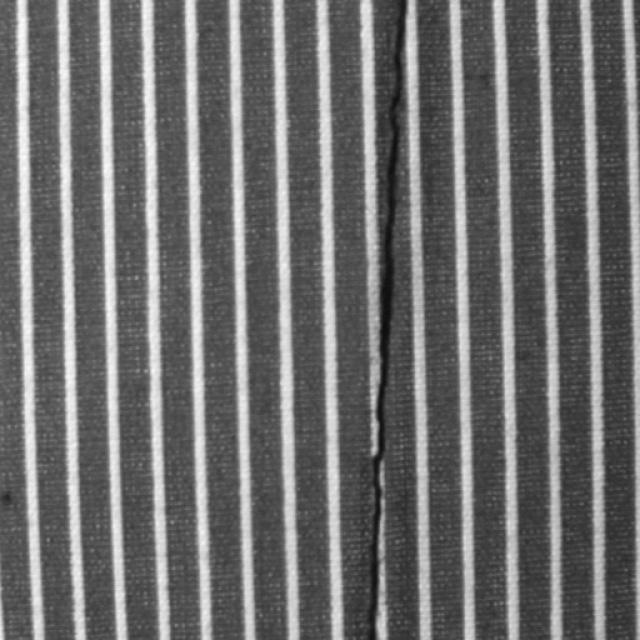Foreign-Body-Defect: (362, 0, 406, 639)
